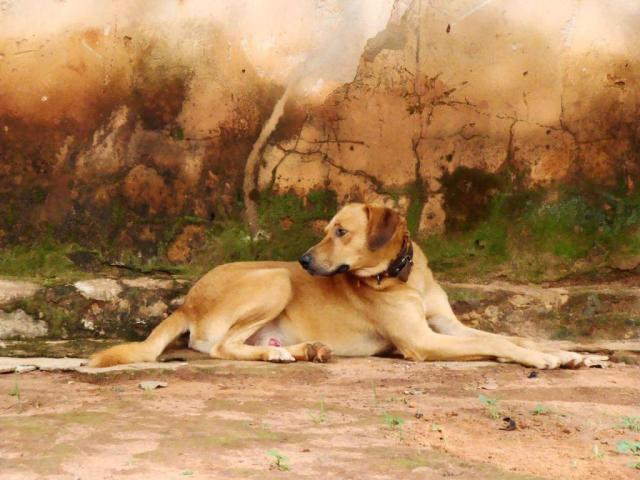Dog: (77, 200, 608, 366)
